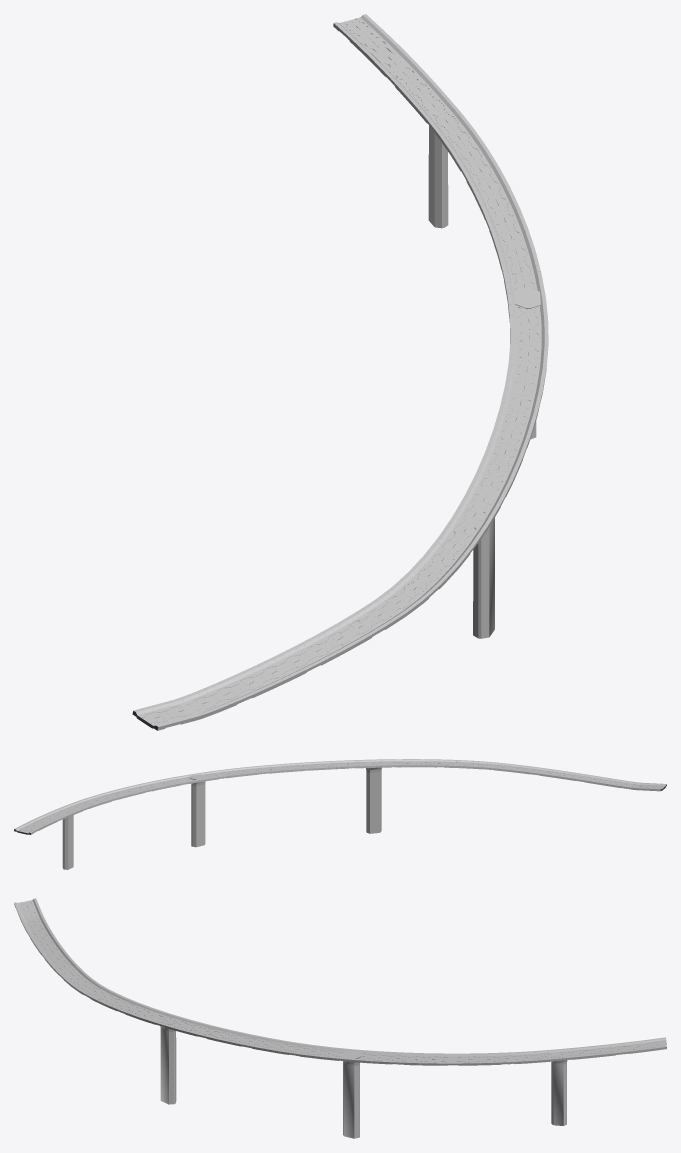
3 renders of one model, top to bottom at view 1: azimuth 30°, elevation 25°; view 2: azimuth 150°, elevation 25°; view 3: azimuth 270°, elevation 25°, orthographic. The views are drawn at different scales.
Parts seen in each view (by area): view 1: KB3D_HTS_Road_H_Main, 支架__3_.001, 支架.001; view 2: KB3D_HTS_Road_H_Main, 支架__3_.001, 支架__2_.001, 支架.001; view 3: KB3D_HTS_Road_H_Main, 支架__2_.001, 支架__3_.001, 支架.001.
Part boxes in pixels (box(x1,y1,x2,y2)): KB3D_HTS_Road_H_Main: box(132, 14, 548, 730); 支架__3_.001: box(473, 486, 499, 638); 支架.001: box(425, 103, 448, 228); KB3D_HTS_Road_H_Main: box(14, 759, 666, 834); 支架__3_.001: box(364, 761, 381, 833); 支架__2_.001: box(189, 774, 207, 847); 支架.001: box(62, 808, 75, 869); KB3D_HTS_Road_H_Main: box(14, 898, 666, 1065); 支架__2_.001: box(340, 1051, 361, 1138); 支架__3_.001: box(160, 1021, 177, 1104); 支架.001: box(550, 1052, 567, 1125).
Bounding box in the file's own units: 35460 × 10557 × 44106.
